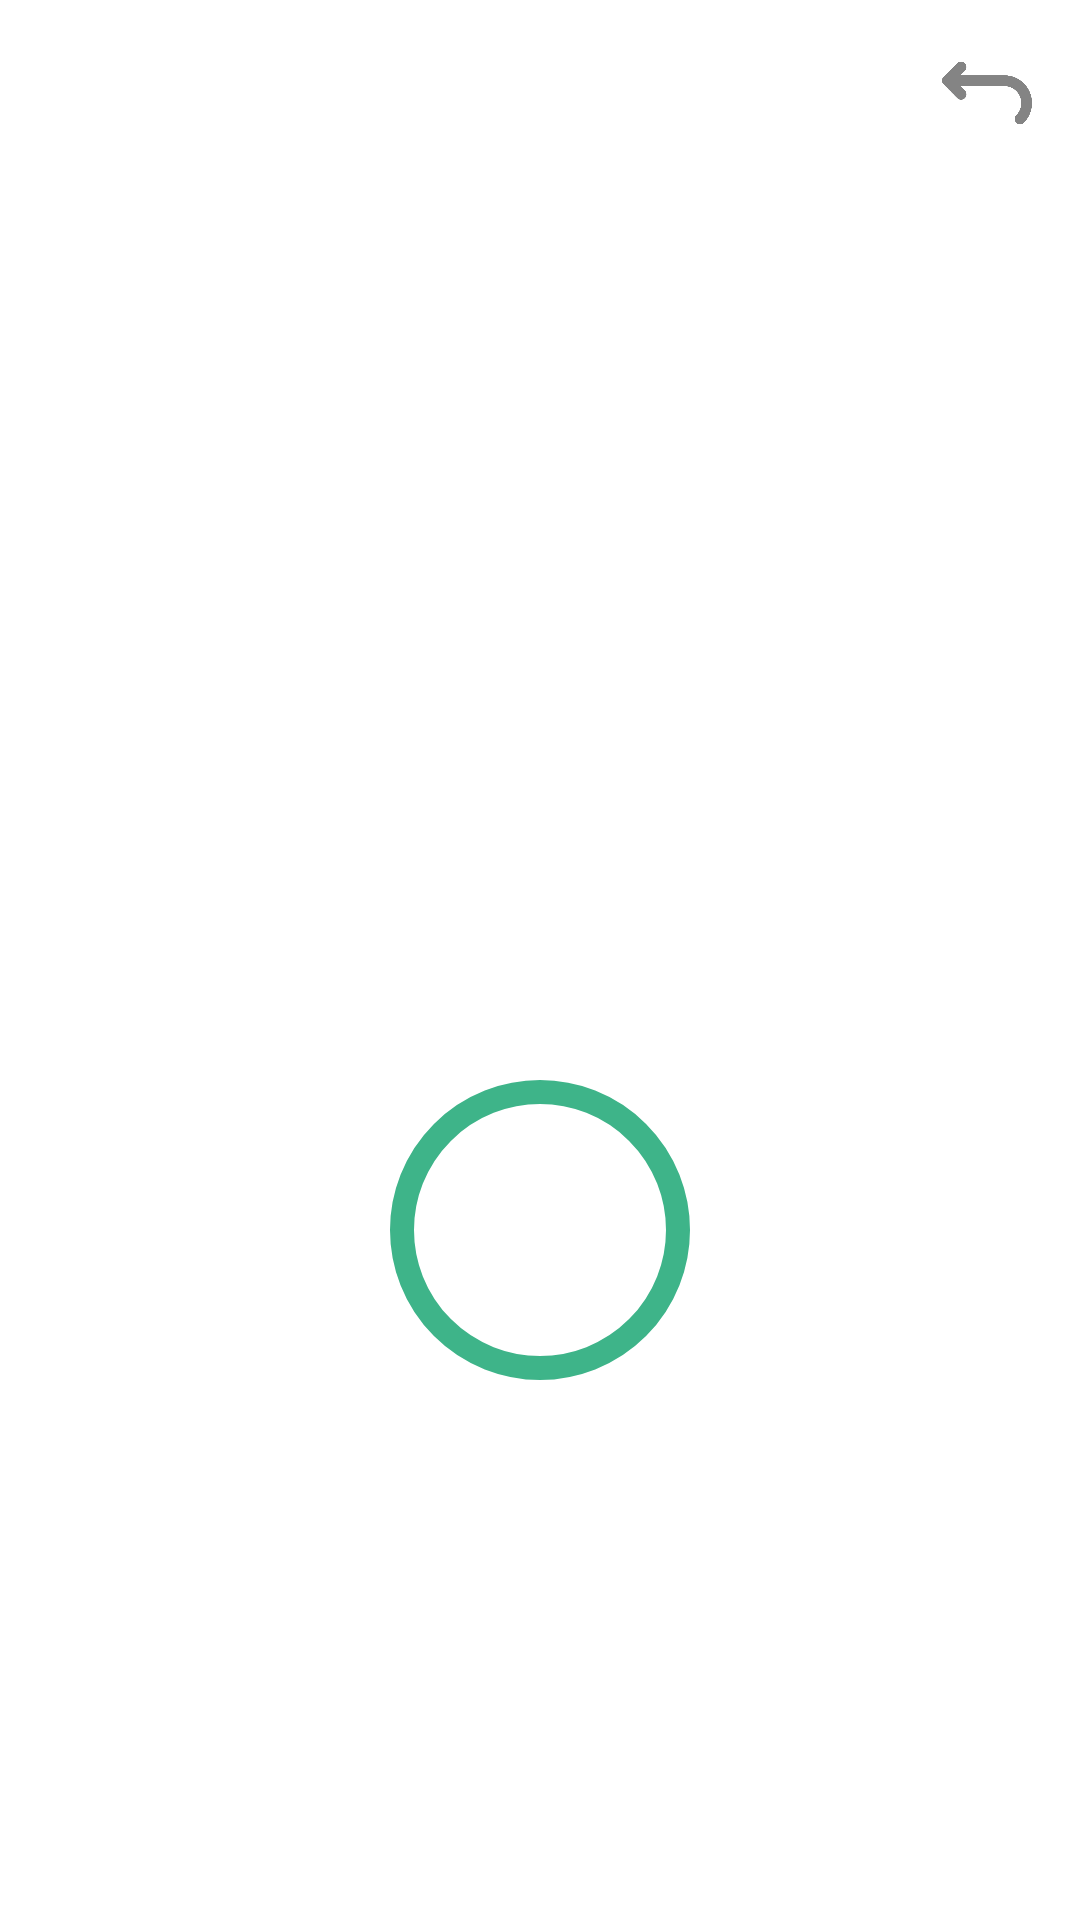

Where icons sit on this 1080*1920 app screen, as [x1,y1,x2,y2]:
back: [942,62,1032,124]
